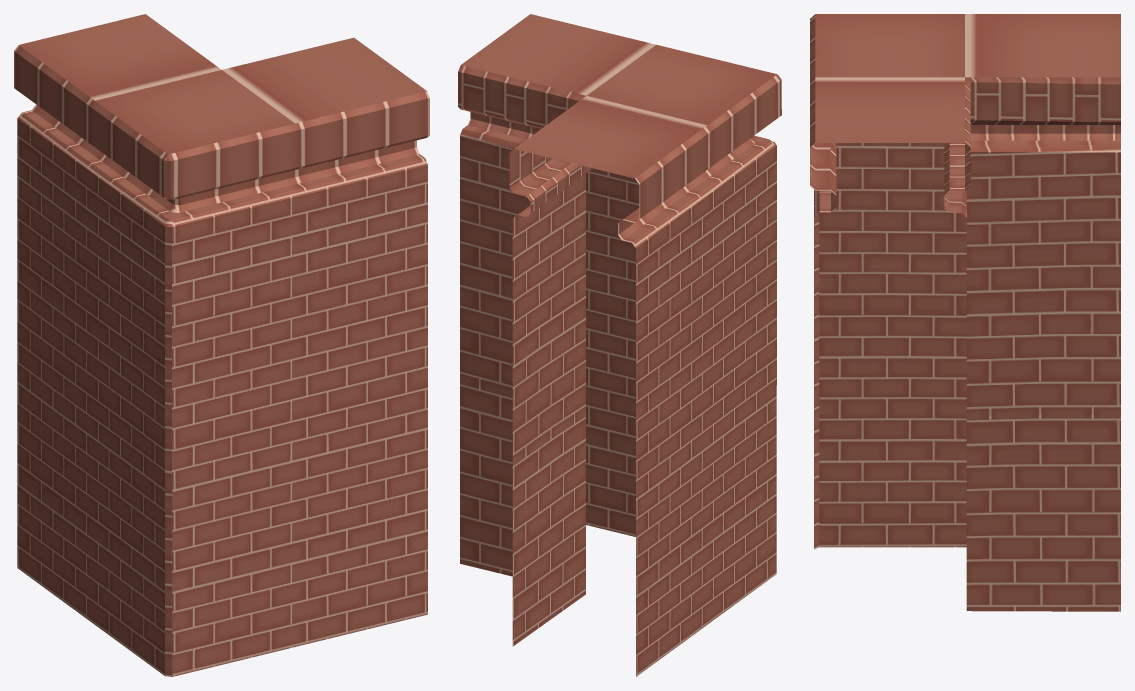
The model's file is schoolfence_corner.fbx.
The picture shows the model from 3 angles, left to right: view 1: azimuth 30°, elevation 25°; view 2: azimuth 150°, elevation 25°; view 3: azimuth 270°, elevation 25°; orthographic projection. The views are drawn at different scales.
Visible parts, largest first — view 1: fence_corner; view 2: fence_corner; view 3: fence_corner.
Part boxes in pixels (<box>): fence_corner: <box>14,14,429,676</box>; fence_corner: <box>458,14,781,676</box>; fence_corner: <box>810,14,1120,611</box>.
Size of the model in its own units: 2.49 by 4.71 by 2.49.
Materials: 1 (1 with a texture image).
